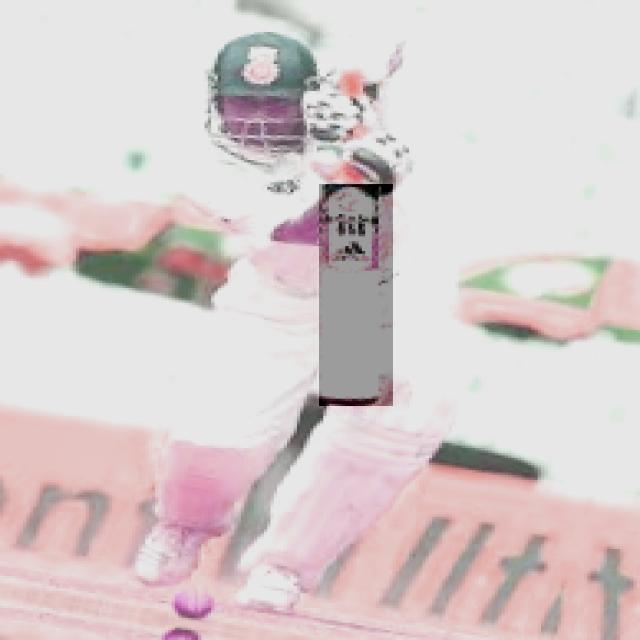bat: (319, 186, 394, 407)
toe: (316, 393, 379, 406)
